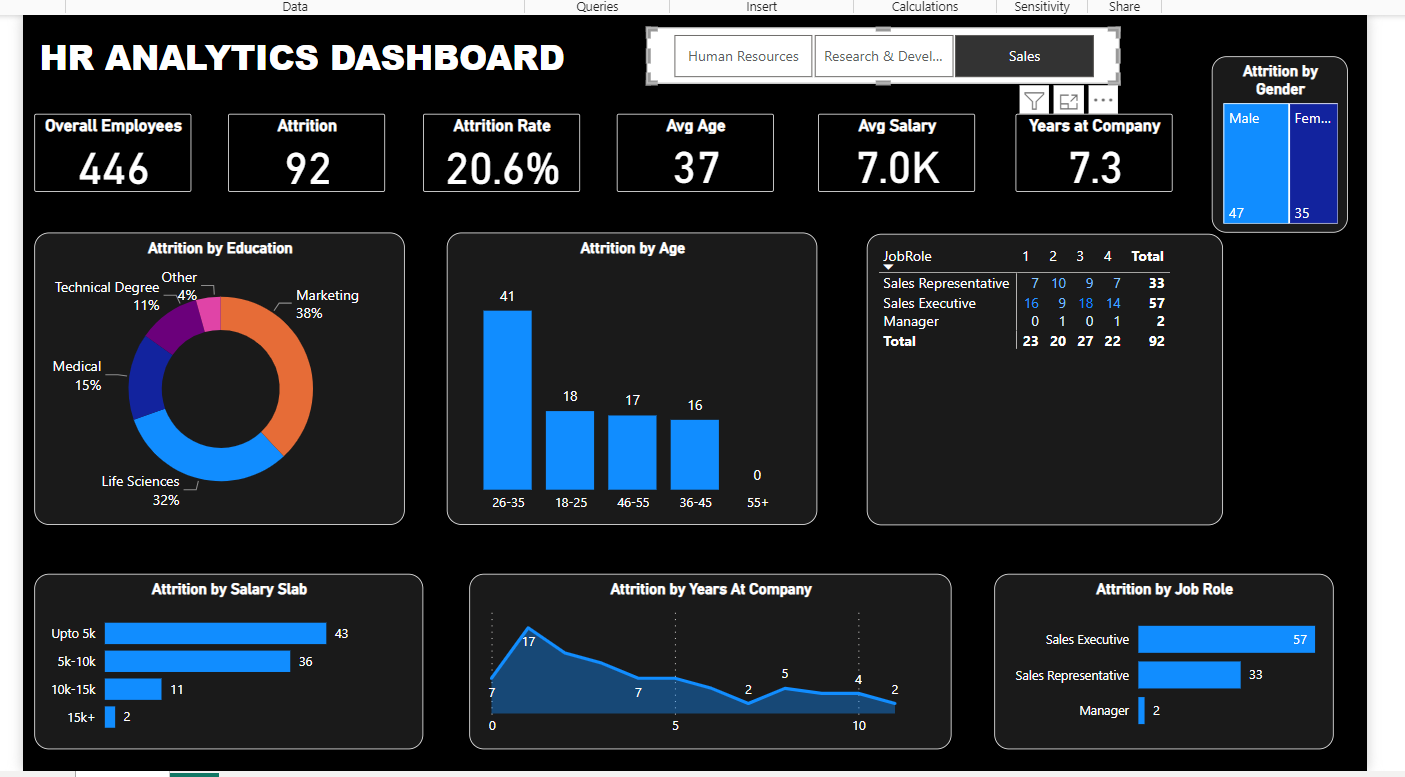

This screenshot's page, from the dashboard's own definition file:
{"tool":"powerbi","page":{"name":"Page 1","canvas":[1280,720],"ordinal":0},"visuals":[{"type":"card","title":"Overall Employees","fields":{"Values":["CountNonNull(HR_Analytics.EmpID)"]},"box":[10.7,94,150,83.3],"z":0},{"type":"card","title":"Attrition","fields":{"Values":["Sum(HR_Analytics.AttritionCount)"]},"box":[195.4,93.7,149.3,74.7],"z":1000},{"type":"card","title":"Attrition Rate","fields":{"Values":["HR_Analytics.AttritionRate"]},"box":[381.2,93.7,149.3,74.7],"z":2000},{"type":"card","title":"Avg Age","fields":{"Values":["Avg(HR_Analytics.Age)"]},"box":[565.4,94.2,149.4,74],"z":3000},{"type":"card","title":"Avg Salary","fields":{"Values":["Avg(HR_Analytics.MonthlyIncome)"]},"box":[756.6,94.2,149.4,74],"z":4000},{"type":"card","title":"Years at Company","fields":{"Values":["Avg(HR_Analytics.YearsAtCompany)"]},"box":[945.1,94.2,149.4,74],"z":5000},{"type":"donutChart","title":"Attrition by Education","fields":{"Category":["HR_Analytics.EducationField"],"Y":["Sum(HR_Analytics.AttritionCount)"]},"box":[10.8,207.3,352.7,278.7],"z":6000},{"type":"columnChart","title":"Attrition by Age","fields":{"Category":["HR_Analytics.AgeGroup"],"Y":["Sum(HR_Analytics.AttritionCount)"]},"box":[403.9,207.3,352.7,278.7],"z":7000},{"type":"pivotTable","fields":{"Rows":["HR_Analytics.JobRole"],"Columns":["HR_Analytics.JobSatisfaction"],"Values":["Sum(HR_Analytics.AttritionCount)"]},"box":[803.7,208.7,339.3,277.3],"z":8000},{"type":"barChart","title":"Attrition by Salary Slab","fields":{"Category":["HR_Analytics.SalarySlab"],"Y":["Sum(HR_Analytics.AttritionCount)"]},"box":[10.8,531.8,370.2,166.9],"z":9000},{"type":"barChart","title":"Attrition by Job Role","fields":{"Y":["Sum(HR_Analytics.AttritionCount)"],"Category":["HR_Analytics.JobRole"]},"box":[924.9,531.8,323.1,166.9],"z":10000},{"type":"areaChart","title":"Attrition by Years At Company","fields":{"Category":["HR_Analytics.YearsAtCompany"],"Y":["Sum(HR_Analytics.AttritionCount)"]},"box":[425.4,531.8,459.1,166.9],"z":11000},{"type":"slicer","fields":{"Values":["HR_Analytics.Department"]},"box":[591.5,26.2,449.9,53.6],"z":12000},{"type":"textbox","box":[10.8,12.1,569.5,82.1],"z":13000},{"type":"treemap","title":"Attrition by Gender","fields":{"Group":["HR_Analytics.Gender"],"Values":["Sum(HR_Analytics.AttritionCount)"]},"box":[1132.2,39,129.2,168.3],"z":14000}]}

Visuals, with their boxes on the page's 1280x720 design canvas (x1, y1, x2, y2). These are canvas units, not pixel positions in the 1405x777 screenshot, which may show the page scaled, cropped or inside an application window:
"Overall Employees" card: <region>11, 94, 161, 177</region>
"Attrition" card: <region>195, 94, 345, 168</region>
"Attrition Rate" card: <region>381, 94, 530, 168</region>
"Avg Age" card: <region>565, 94, 715, 168</region>
"Avg Salary" card: <region>757, 94, 906, 168</region>
"Years at Company" card: <region>945, 94, 1094, 168</region>
"Attrition by Education" donutChart: <region>11, 207, 364, 486</region>
"Attrition by Age" columnChart: <region>404, 207, 757, 486</region>
pivotTable - HR_Analytics.JobRole x HR_Analytics.JobSatisfaction: <region>804, 209, 1143, 486</region>
"Attrition by Salary Slab" barChart: <region>11, 532, 381, 699</region>
"Attrition by Job Role" barChart: <region>925, 532, 1248, 699</region>
"Attrition by Years At Company" areaChart: <region>425, 532, 884, 699</region>
slicer - HR_Analytics.Department: <region>592, 26, 1041, 80</region>
textbox: <region>11, 12, 580, 94</region>
"Attrition by Gender" treemap: <region>1132, 39, 1261, 207</region>
